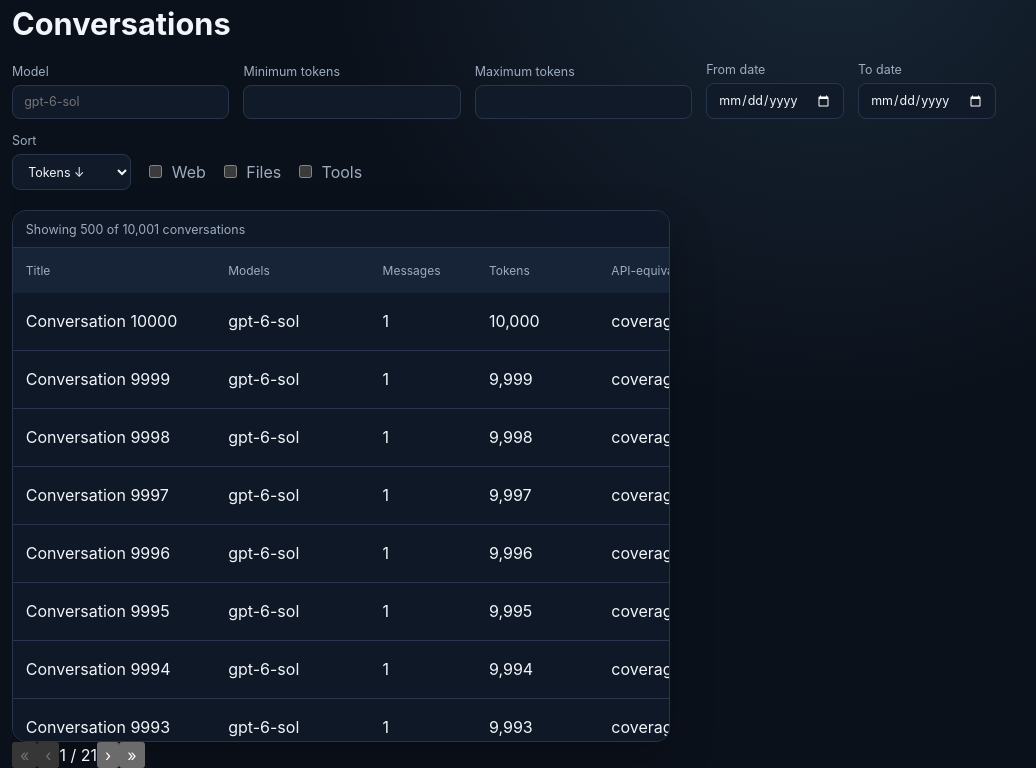
Scenario: conversation pagination contract › reaches rows beyond the previous 10,000-row cap with a bounded page request
(page scrolled)
Check: the text "Showing 500 of 10,001 conversations" is shown, box [13, 211, 669, 248]
Check: the text "1 / 21" is shown, box [60, 745, 97, 765]
Click the button "»" at (132, 755), box [119, 742, 144, 767]
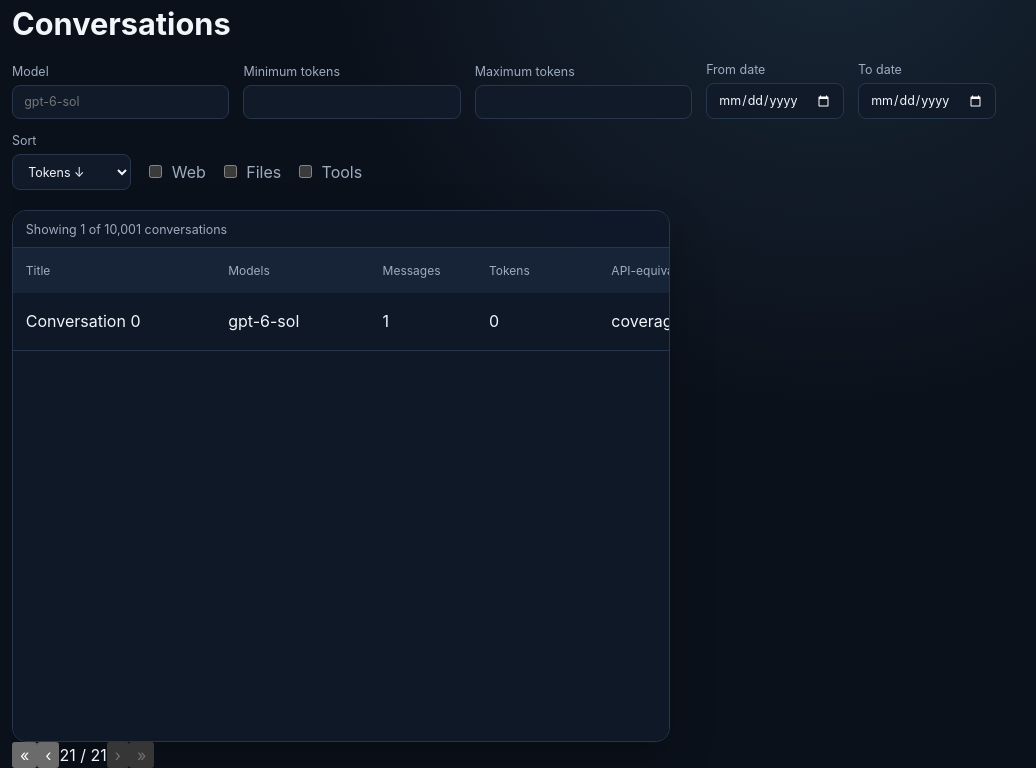
Check: the text "Showing 1 of 10,001 conversations" is shown, box [13, 211, 669, 248]
Check: the text "21 / 21" is shown, box [60, 745, 107, 765]
